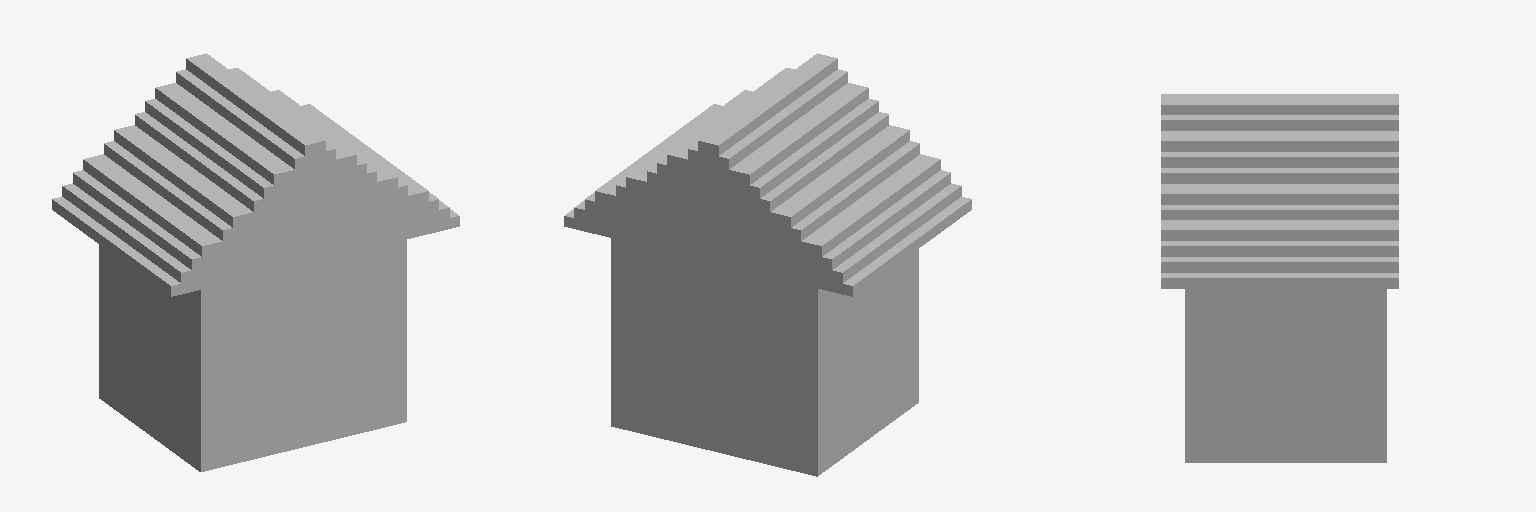
The model's file is yellow.obj.
3 renders of one model, left to right at view 1: azimuth 30°, elevation 25°; view 2: azimuth 150°, elevation 25°; view 3: azimuth 270°, elevation 25°, orthographic.
Size of the model in its own units: 28 by 29 by 20.